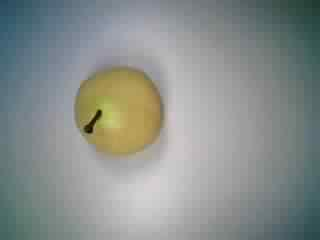pear: (65, 57, 172, 169)
